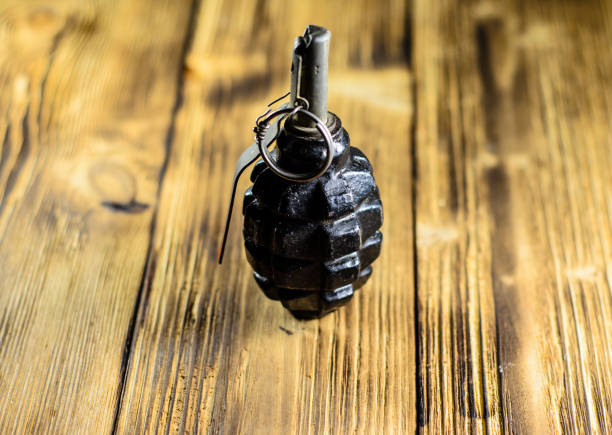e1: (217, 38, 382, 320)
